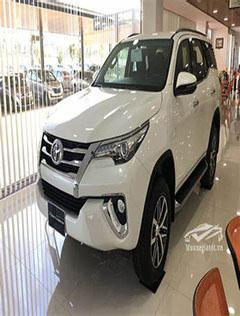car: (25, 10, 236, 293)
